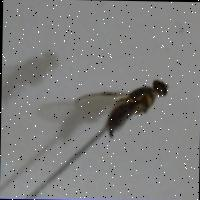Oriental-fruit-fly: (64, 72, 174, 144)
